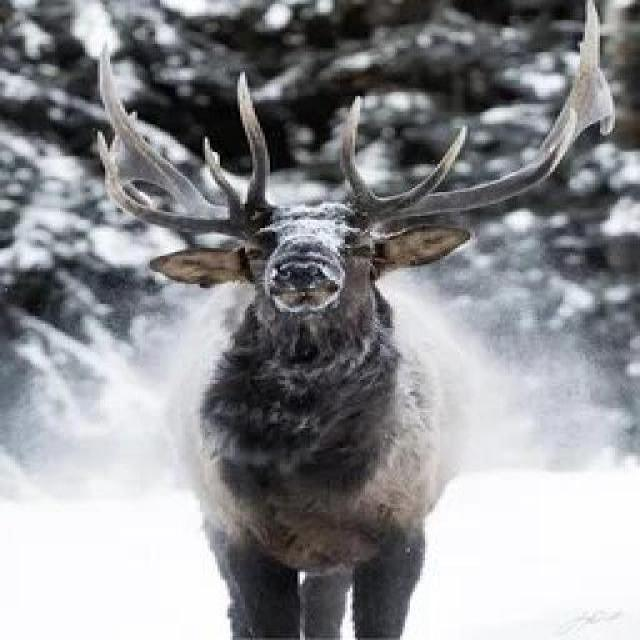deer: (50, 42, 639, 640)
